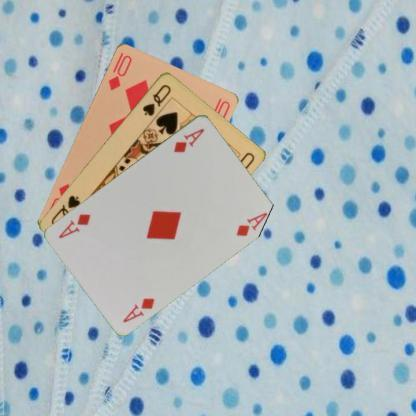10d: (105, 50, 133, 92)
Ad: (120, 294, 156, 324), (171, 124, 206, 154)
Qs: (140, 80, 172, 118)
